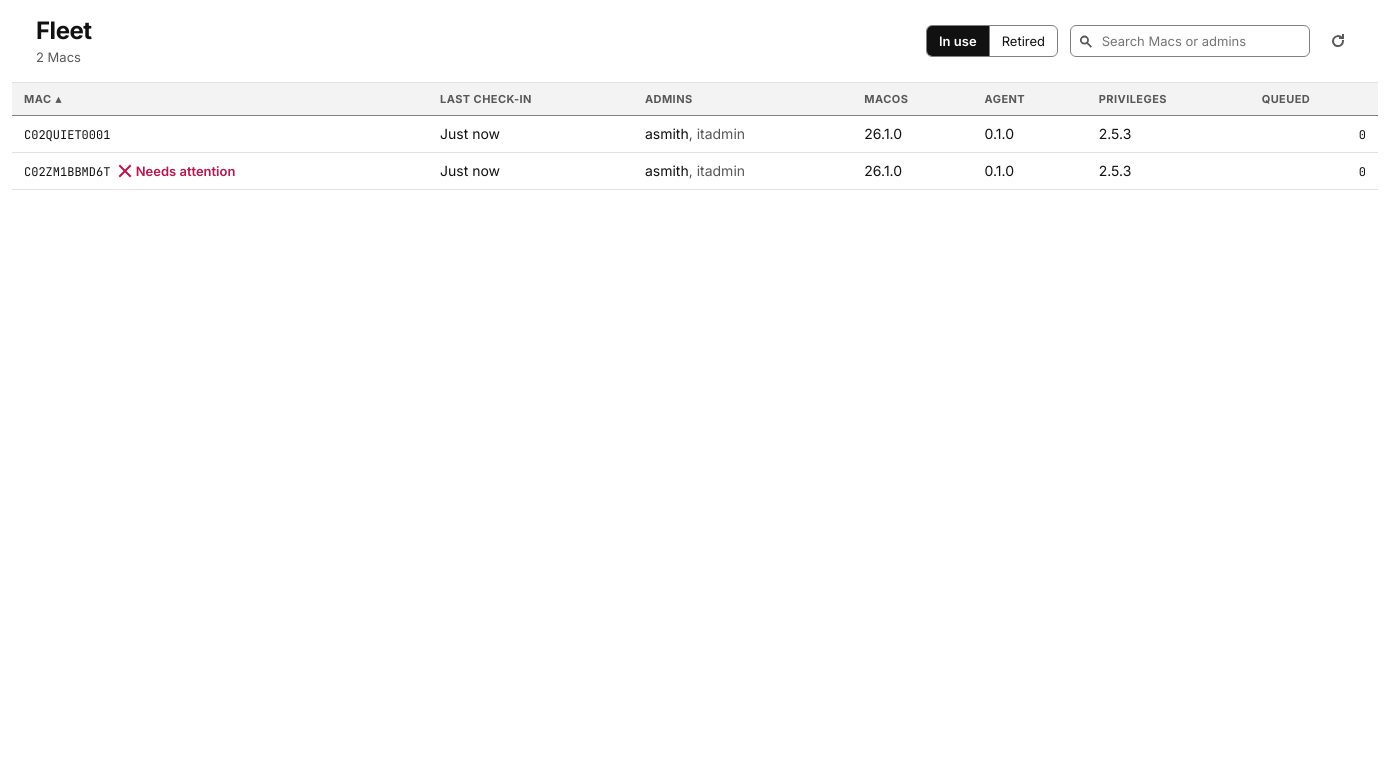
Test case: Fleet › flags a Mac with a failing integrity check
The width and height of the screenshot is (1390, 768).
Expected: the text "Needs attention" is shown once, [118, 163, 235, 179]
What coordinates should you click on to do the following:
click the text "C02ZM1BBMD6T"
I would click on:
 (67, 172)
Its box is [24, 164, 110, 180].
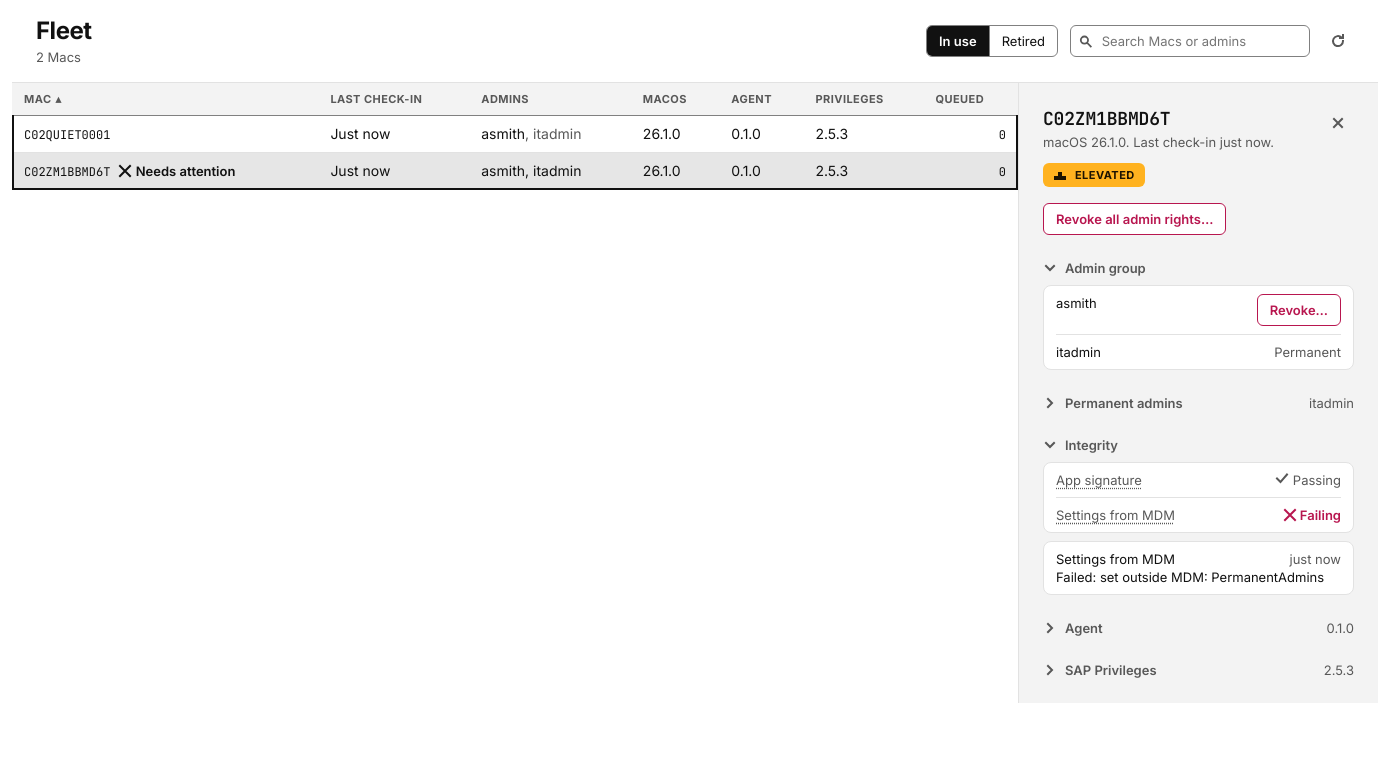
Now the text "Settings from MDM" is shown 2 times, box [1056, 507, 1175, 523]; [1056, 551, 1175, 567]
Now the text "Failing" is shown, box [1283, 507, 1341, 523]
Now the text "Passing" is shown, box [1275, 472, 1341, 488]
